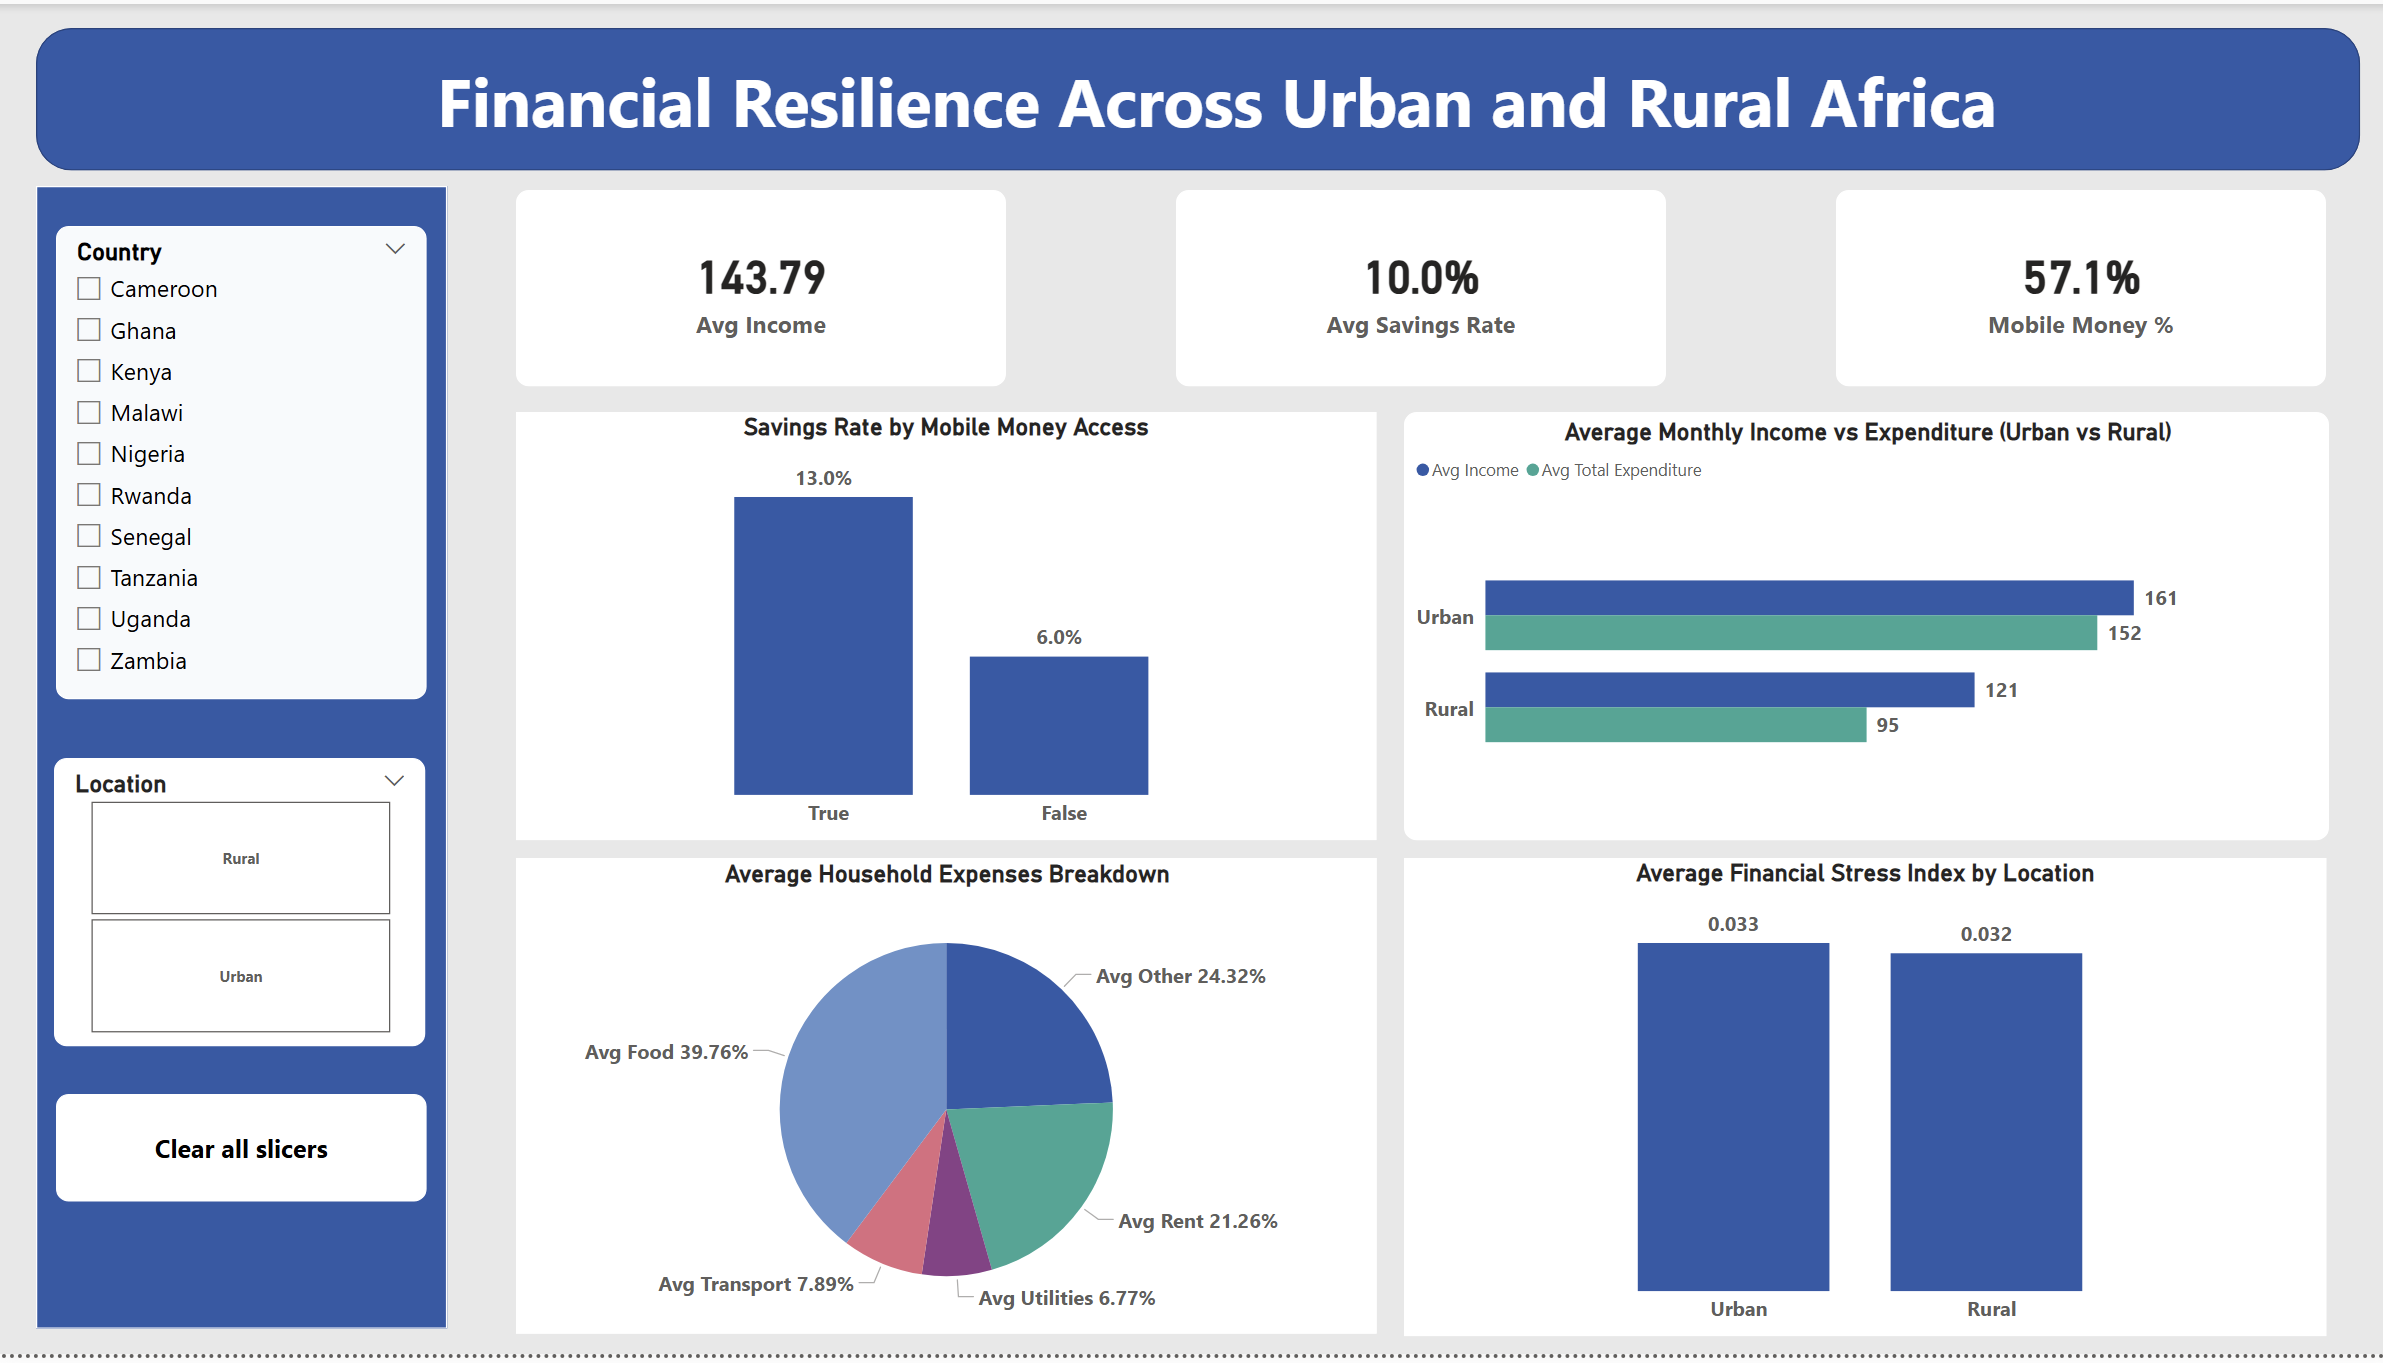

The dashboard page shown, as its layout file describes it:
{"tool":"powerbi","page":{"name":"Page 1","canvas":[1920,1080],"ordinal":0},"visuals":[{"type":"shape","box":[30.6,145.3,328.9,914.1],"z":0},{"type":"pieChart","title":"Average Household Expenses Breakdown","fields":{"Y":["Measures (2).Avg Other","Measures (2).Avg Rent","Measures (2).Avg Utilities","Measures (2).Avg Transport","Measures (2).Avg Food"]},"box":[415,683.7,688.4,380.6],"z":1000},{"type":"clusteredBarChart","title":"Average Monthly Income vs Expenditure (Urban vs Rural)","fields":{"Category":["digital_cost_of_living.Location"],"Y":["Measures (2).Avg Income","Measures (2).Avg Total Expenditure"]},"box":[1124.5,326.1,740.1,342.3],"z":2000},{"type":"shape","box":[31.1,19,1859.3,114],"z":3000},{"type":"slicer","fields":{"Values":["digital_cost_of_living.Country"]},"box":[45.9,177.8,296.4,378.6],"z":4000},{"type":"slicer","fields":{"Values":["digital_cost_of_living.Location"]},"box":[45.1,602.7,297.2,230.4],"z":5000},{"type":"card","fields":{"Values":["Measures (2).Avg Income"]},"box":[415,148.2,392,156.8],"z":6000},{"type":"card","fields":{"Values":["Measures (2).Avg Savings Rate"]},"box":[942.4,148.8,392,156.8],"z":7000},{"type":"card","fields":{"Values":["Measures (2).Mobile Money %"]},"box":[1470.6,148.2,392,156.8],"z":8000},{"type":"clusteredColumnChart","title":"Average Financial Stress Index by Location","fields":{"Category":["digital_cost_of_living.Location"],"Y":["Measures (2).Avg Stress"]},"box":[1124.5,683.7,738.2,382.5],"z":9000},{"type":"clusteredColumnChart","title":"Savings Rate by Mobile Money Access","fields":{"Category":["digital_cost_of_living.Has_Mobile_Money"],"Y":["Measures (2).Avg Savings Rate"]},"box":[415,326.1,688.4,342.3],"z":10000},{"type":"actionButton","box":[45.9,872,296.4,86.1],"z":11000}]}

Visuals, with their boxes in screenshot pixels (x1, y1, x2, y2), scaled from the page's 1920x1080 canvas onto the 2383x1363 screenshot:
shape: crop(38, 183, 446, 1337)
"Average Household Expenses Breakdown" pieChart: crop(515, 863, 1369, 1343)
"Average Monthly Income vs Expenditure (Urban vs Rural)" clusteredBarChart: crop(1396, 412, 2314, 844)
shape: crop(39, 24, 2346, 168)
slicer - digital_cost_of_living.Country: crop(57, 224, 425, 702)
slicer - digital_cost_of_living.Location: crop(56, 761, 425, 1051)
card - Measures (2).Avg Income: crop(515, 187, 1002, 385)
card - Measures (2).Avg Savings Rate: crop(1170, 188, 1656, 386)
card - Measures (2).Mobile Money %: crop(1825, 187, 2312, 385)
"Average Financial Stress Index by Location" clusteredColumnChart: crop(1396, 863, 2312, 1346)
"Savings Rate by Mobile Money Access" clusteredColumnChart: crop(515, 412, 1369, 844)
actionButton: crop(57, 1100, 425, 1209)
